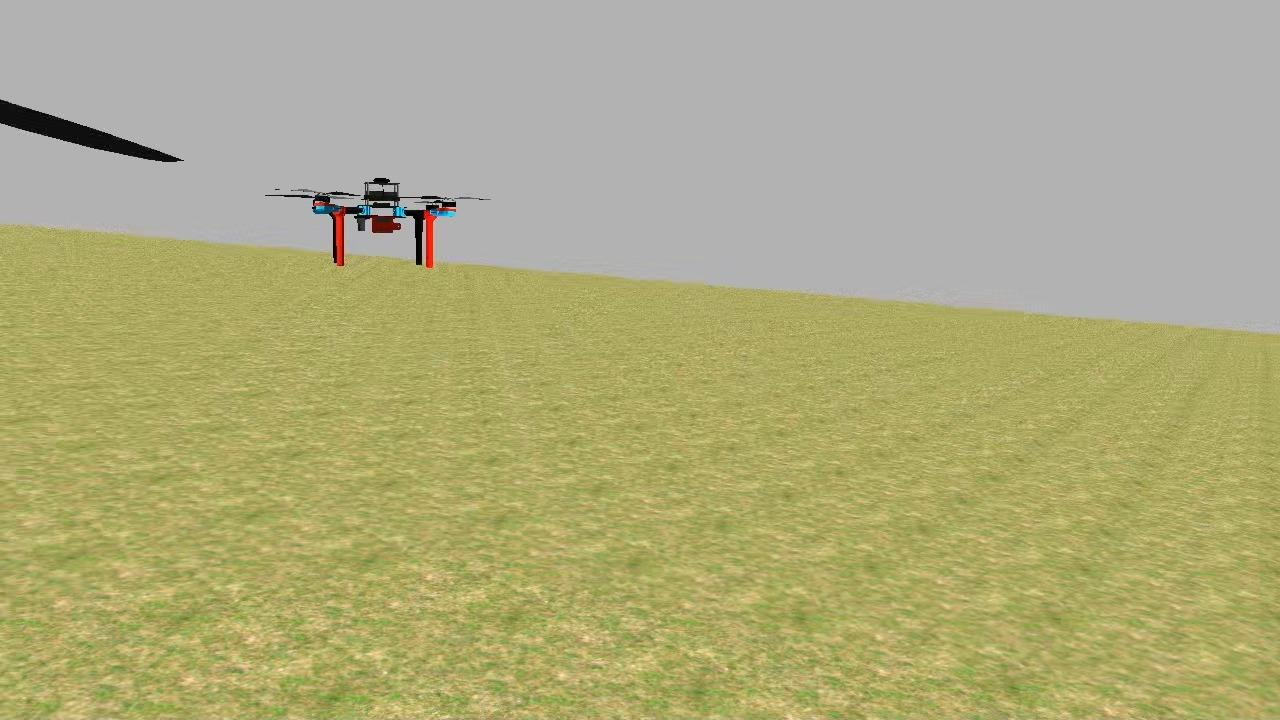UAV: (306, 172, 466, 276)
